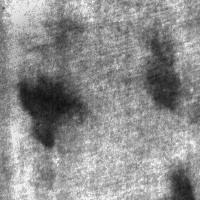patches: (0, 13, 104, 131), (15, 75, 81, 147), (143, 35, 179, 108), (163, 163, 194, 200)
